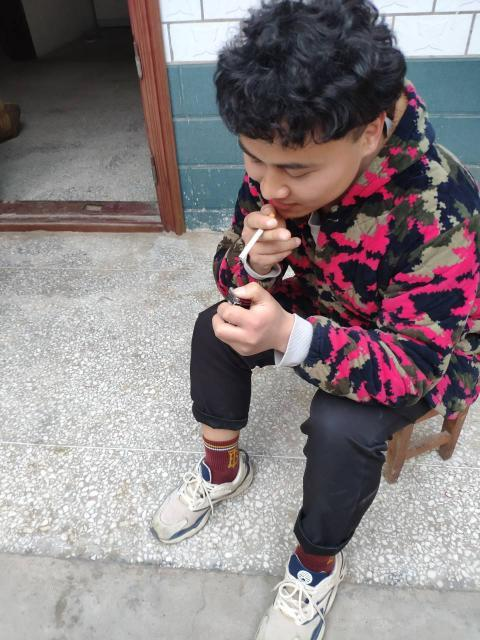Smoking: (226, 214, 290, 264)
